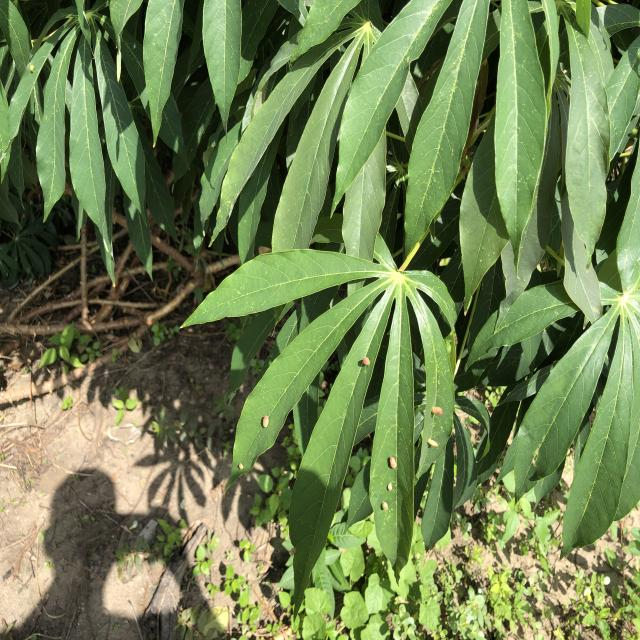Mosca: (371, 451, 403, 520), (351, 343, 384, 394), (228, 450, 256, 482), (259, 408, 285, 438), (422, 427, 443, 455), (420, 401, 448, 421), (23, 56, 37, 74)
